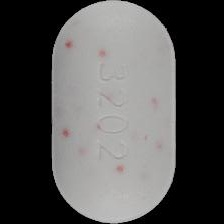12634-264: (0, 0, 224, 224)
